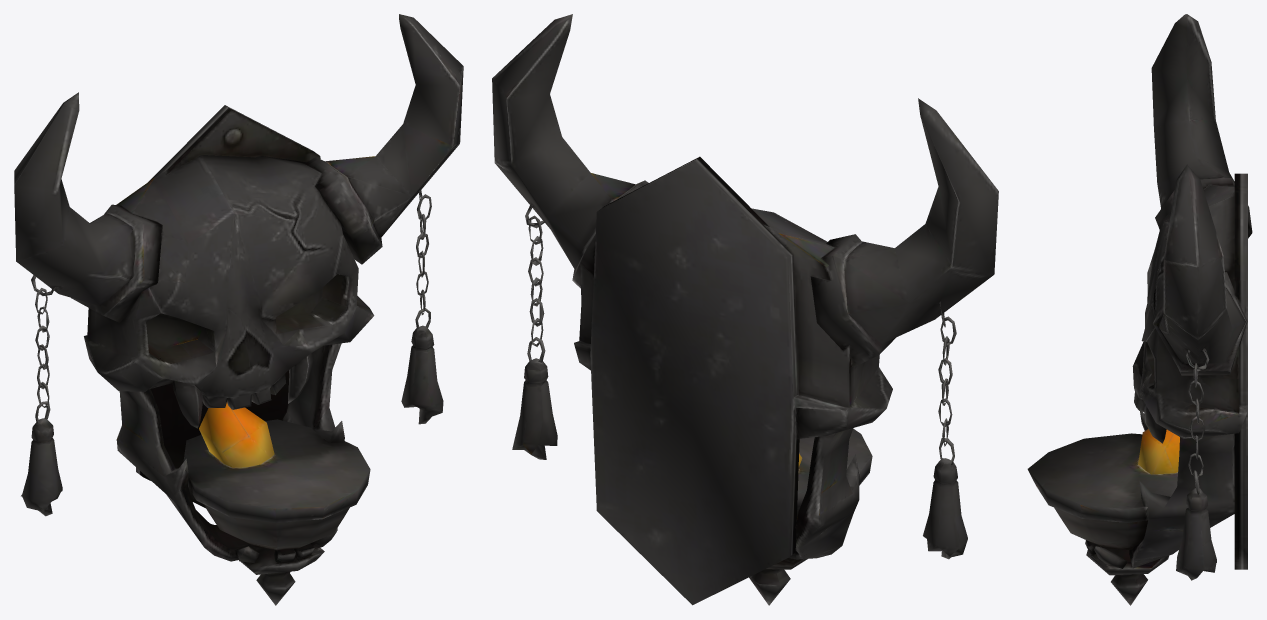
File: abyss_horned_wall_sconce.glb
The picture shows the model from 3 angles, left to right: view 1: azimuth 30°, elevation 25°; view 2: azimuth 150°, elevation 25°; view 3: azimuth 270°, elevation 25°; orthographic projection. The views are drawn at different scales.
Visible parts, largest first — view 1: tripo_node_60a37024-1f7d-4851-ad6c-7ae9a7bcf0a7; view 2: tripo_node_60a37024-1f7d-4851-ad6c-7ae9a7bcf0a7; view 3: tripo_node_60a37024-1f7d-4851-ad6c-7ae9a7bcf0a7.
Boxes of the visible parts, x1,y1,x2,y2 form: tripo_node_60a37024-1f7d-4851-ad6c-7ae9a7bcf0a7: (14, 14, 463, 605); tripo_node_60a37024-1f7d-4851-ad6c-7ae9a7bcf0a7: (492, 14, 998, 605); tripo_node_60a37024-1f7d-4851-ad6c-7ae9a7bcf0a7: (1027, 14, 1252, 605).
Size of the model in its own units: 2.89 by 3.2 by 1.27.
Materials: 1 (1 with a texture image).
